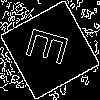E: (25, 25, 78, 70)
